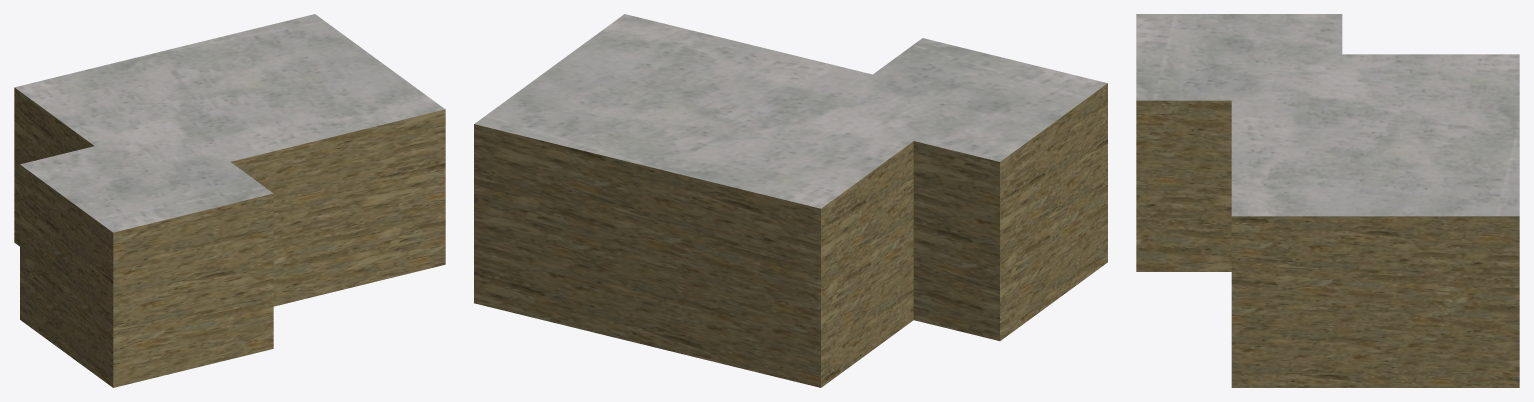
File: wall.glb
3 renders of one model, left to right at view 1: azimuth 30°, elevation 25°; view 2: azimuth 150°, elevation 25°; view 3: azimuth 270°, elevation 25°, orthographic. The views are drawn at different scales.
Visible parts, largest first — view 1: Plane; view 2: Plane; view 3: Plane.
Part boxes in pixels (x1=…): Plane: x1=14, y1=14, x2=445, y2=387; Plane: x1=474, y1=14, x2=1107, y2=387; Plane: x1=1136, y1=14, x2=1519, y2=387.
Size of the model in its own units: 7.63 by 3.02 by 6.11.
Materials: 2 (2 with a texture image).
